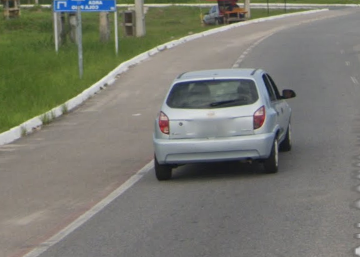car: (150, 65, 300, 185)
